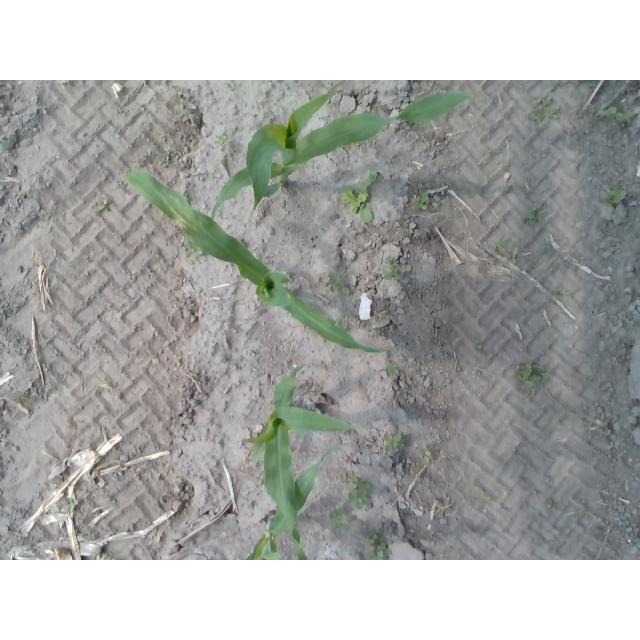Maize: (126, 169, 402, 355), (209, 86, 488, 223), (242, 364, 363, 561), (245, 444, 344, 560)
Weeds: (340, 185, 372, 223), (345, 470, 372, 510), (515, 364, 552, 388), (600, 106, 635, 128), (364, 536, 393, 561), (522, 203, 550, 228), (602, 183, 626, 206), (64, 487, 85, 511), (185, 234, 204, 259), (414, 186, 430, 214), (384, 432, 405, 453), (383, 257, 401, 280), (324, 272, 344, 292), (329, 508, 347, 529), (545, 97, 560, 119), (530, 104, 545, 125), (495, 237, 513, 254), (418, 442, 433, 462), (477, 486, 492, 500), (550, 285, 564, 300), (214, 134, 228, 148), (365, 171, 378, 186), (387, 361, 400, 375), (545, 498, 558, 510), (18, 392, 31, 404), (96, 201, 108, 210), (474, 339, 482, 349), (103, 553, 113, 560)
